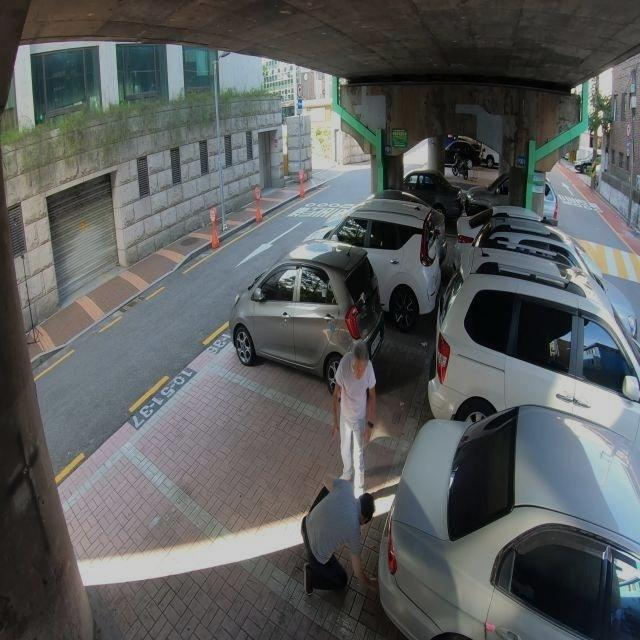fight: (299, 334, 378, 593)
